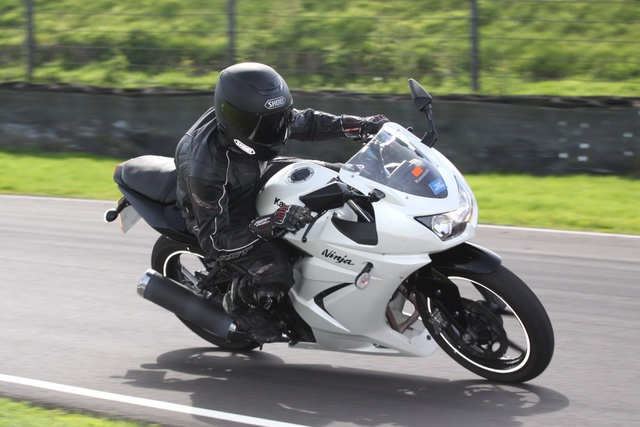helmet: (208, 67, 296, 154)
